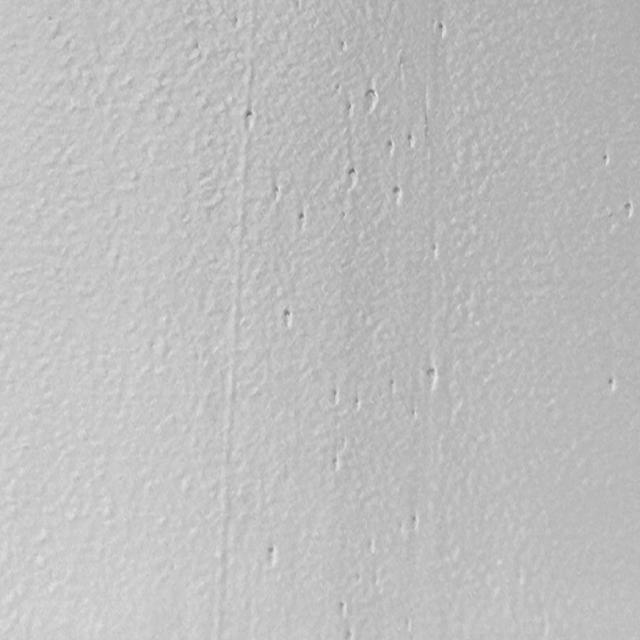pin holes: (421, 364, 439, 390), (263, 543, 281, 569), (364, 87, 381, 114), (278, 308, 296, 332), (333, 599, 351, 623), (621, 199, 638, 222), (241, 109, 257, 133), (392, 185, 405, 208), (408, 512, 422, 533), (330, 454, 344, 474), (346, 164, 358, 187), (330, 387, 343, 408), (606, 375, 620, 393), (354, 392, 364, 416), (387, 377, 396, 403), (599, 153, 612, 170), (436, 22, 449, 39), (298, 213, 310, 231), (270, 186, 282, 204), (344, 99, 354, 120), (337, 40, 350, 56), (384, 140, 396, 157), (430, 241, 441, 258), (230, 15, 242, 30), (406, 133, 416, 150), (410, 404, 418, 424), (343, 627, 356, 639)
